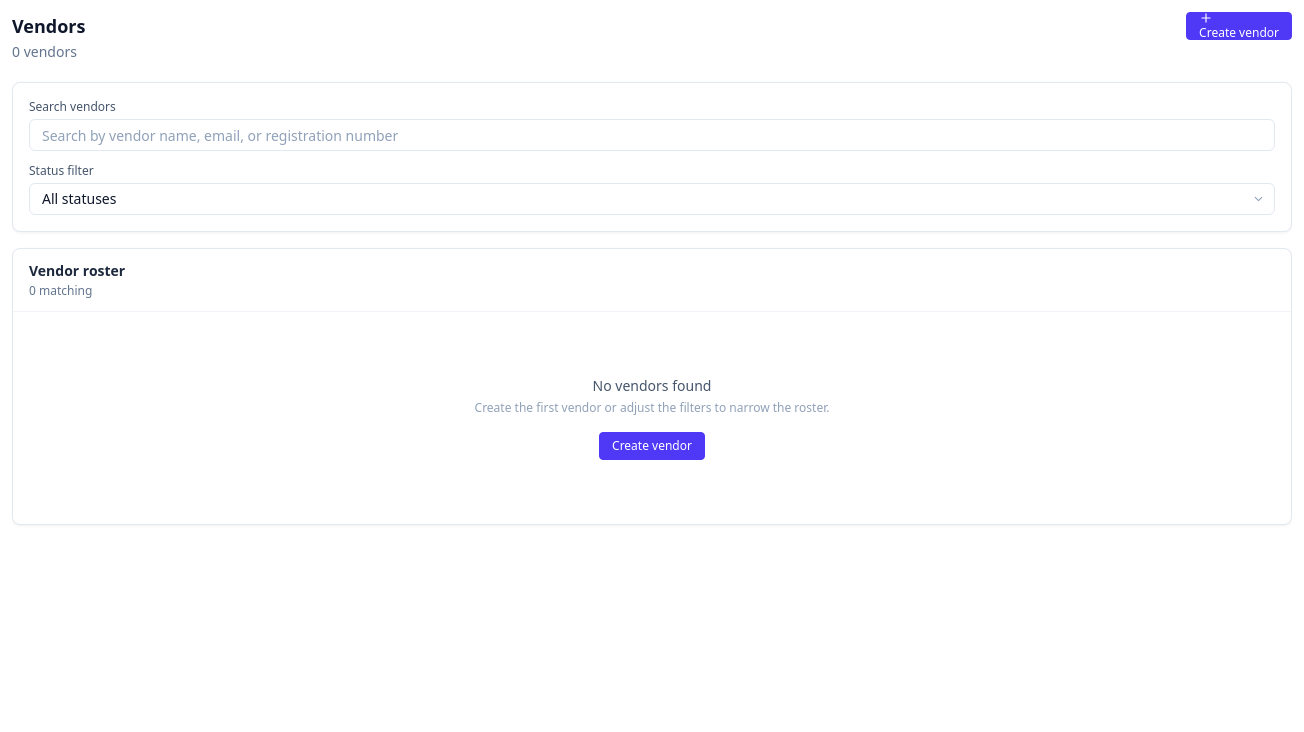
it: VendorsPage › rejects unsupported country codes before creating a vendor
Click the 1st button "Create vendor" at (1239, 26), box 1186,12 -> 1292,40
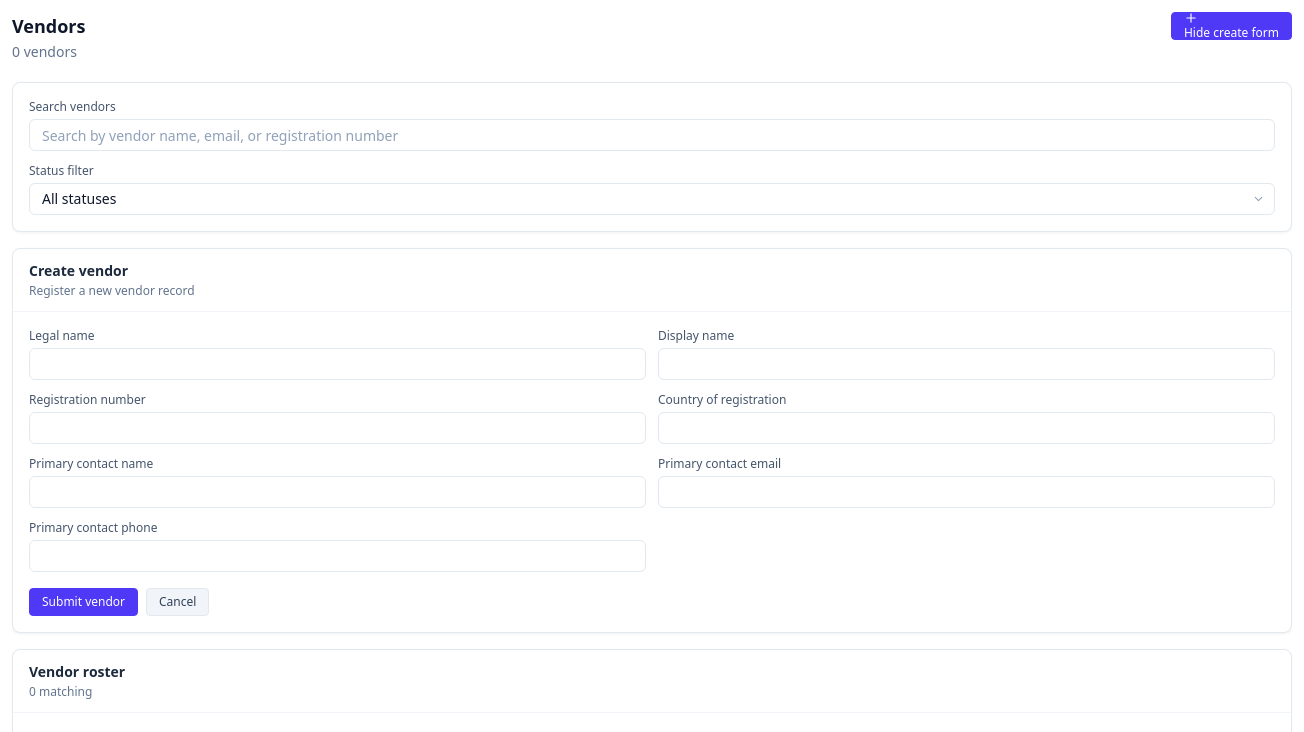
Type "Acme Manufacturing" into the field labelled "Legal name" at (338, 364), box 29,348 -> 646,380
Type "Acme" into the field labelled "Display name" at (966, 364), box 658,348 -> 1275,380
Type "REG-200" into the field labelled "Registration number" at (338, 428), box 29,412 -> 646,444
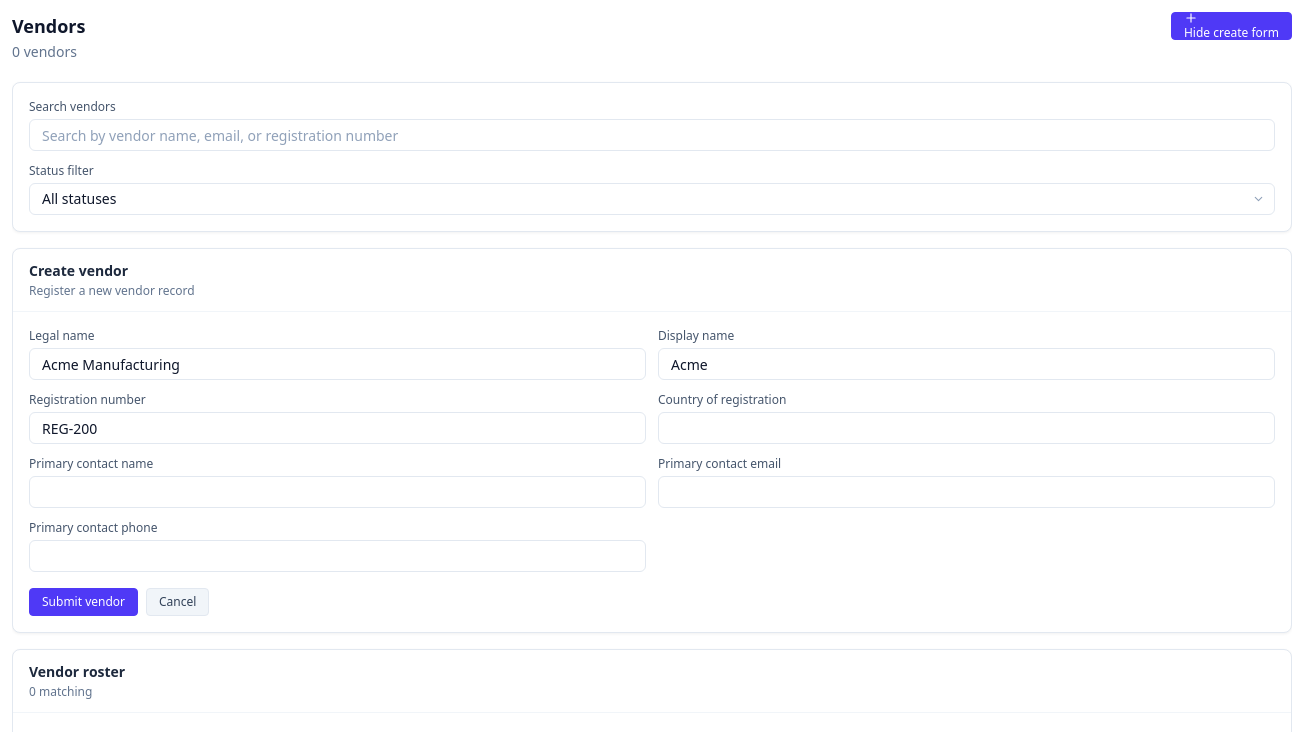
Type "Malaysia" into the field labelled "Country of registration" at (966, 428), box 658,412 -> 1275,444
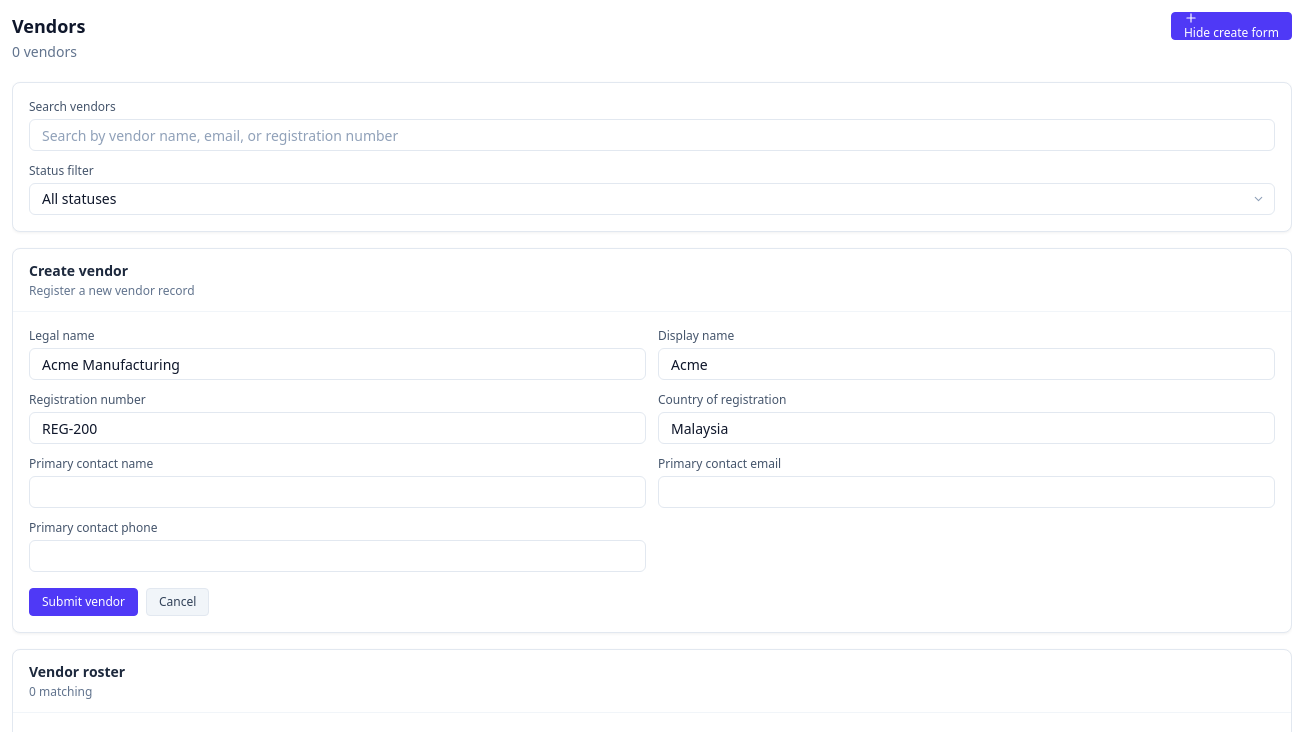
Type "Rina Tan" into the field labelled "Primary contact name" at (338, 492), box 29,476 -> 646,508
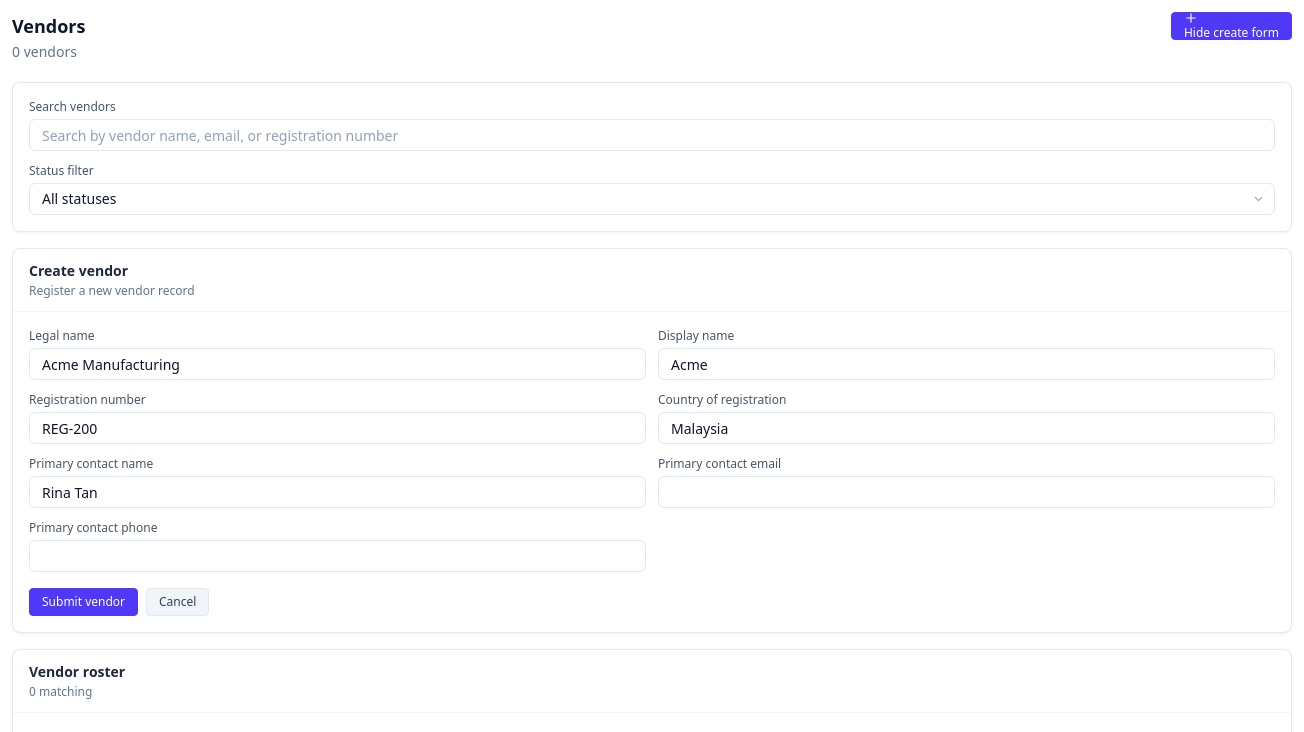
Type "rina@example.com" into the field labelled "Primary contact email" at (966, 492), box 658,476 -> 1275,508
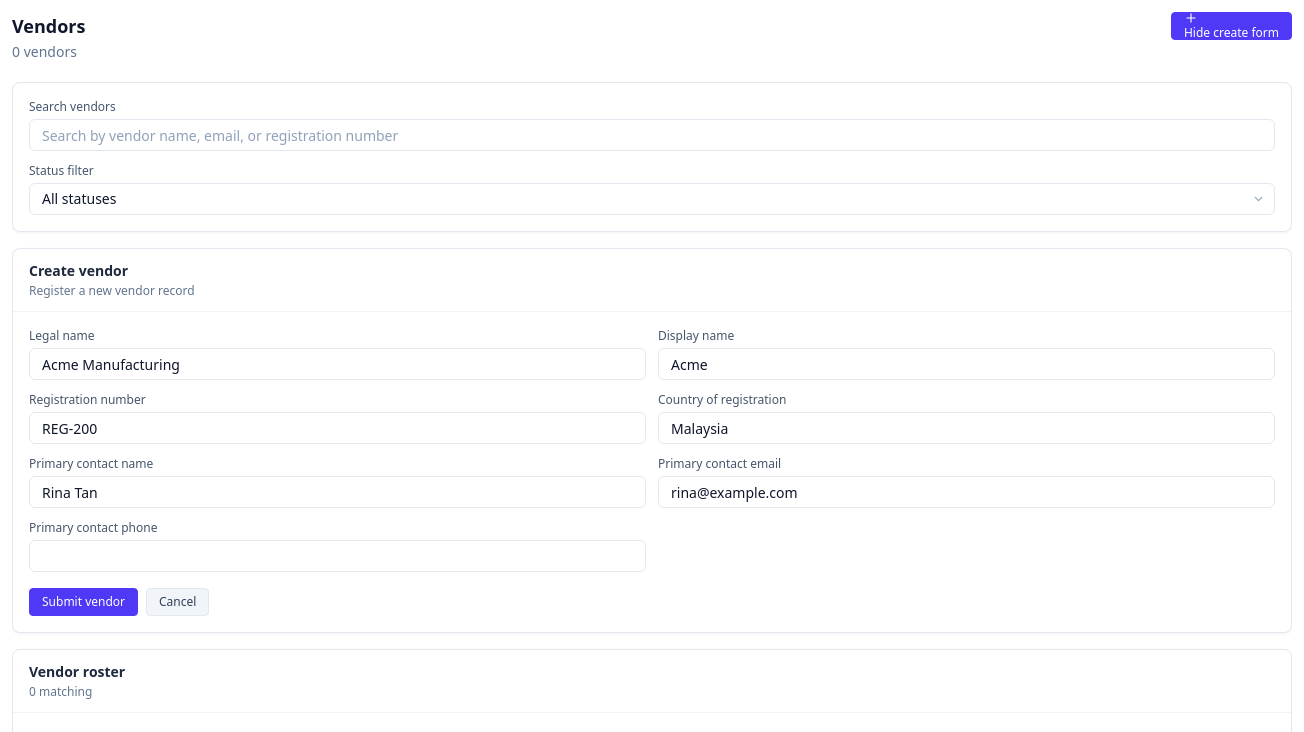
Click the button "Submit vendor" at (84, 602), box 29,588 -> 138,616
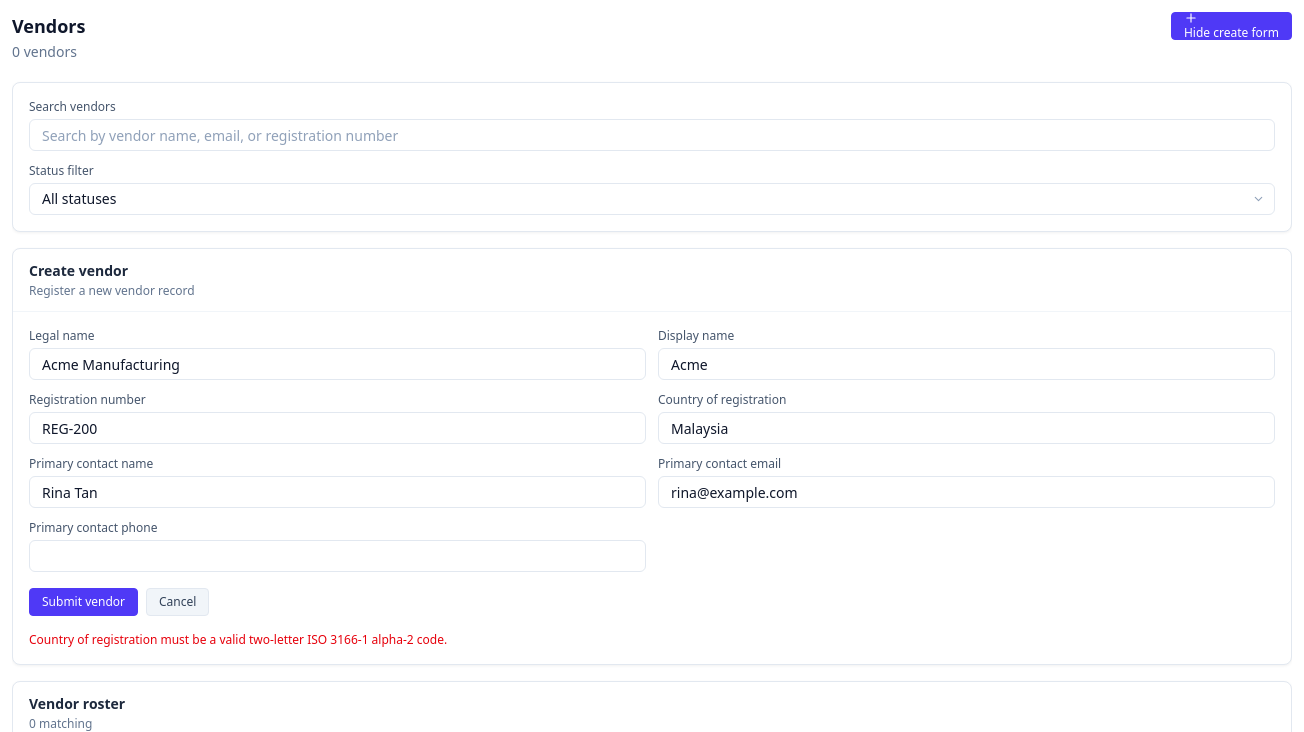
Expected: the text "Country of registration must be a valid two-letter ISO 3166-1 alpha-2 code" is shown, 29,631 -> 447,648
